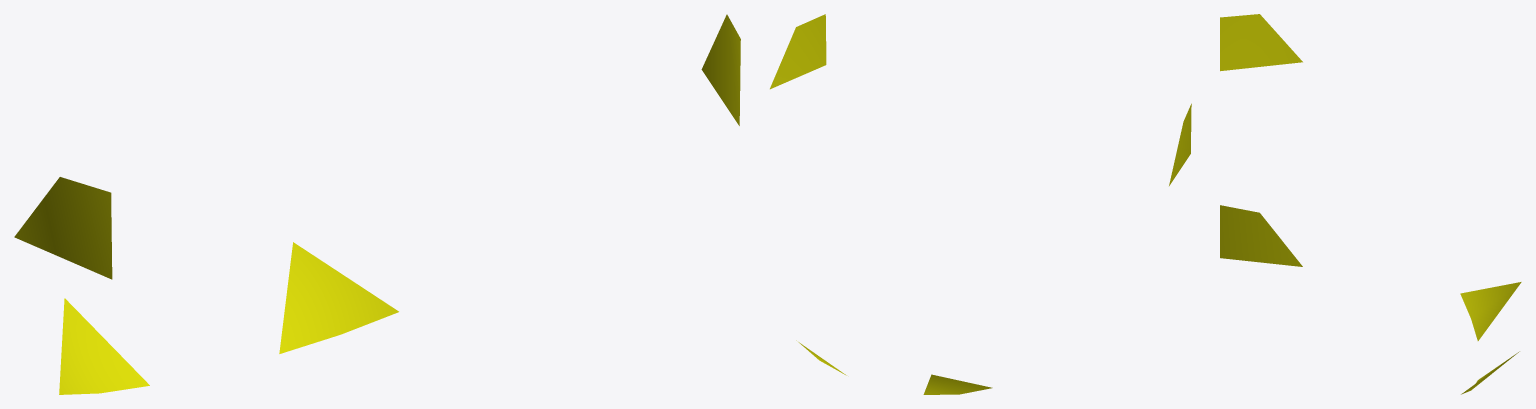
File: Forehead2_124.glb
The picture shows the model from 3 angles, left to right: view 1: azimuth 30°, elevation 25°; view 2: azimuth 150°, elevation 25°; view 3: azimuth 270°, elevation 25°; orthographic projection. The views are drawn at different scales.
Size of the model in its own units: 52.6 by 29.89 by 32.75.
